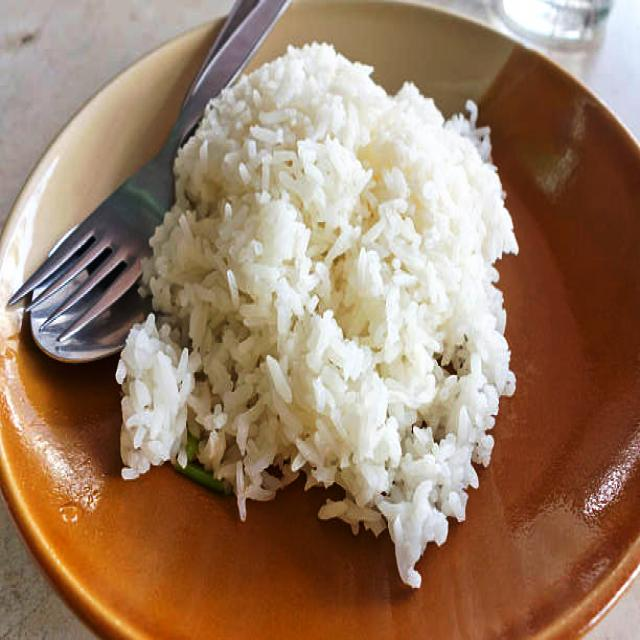rice: (116, 44, 521, 591)
